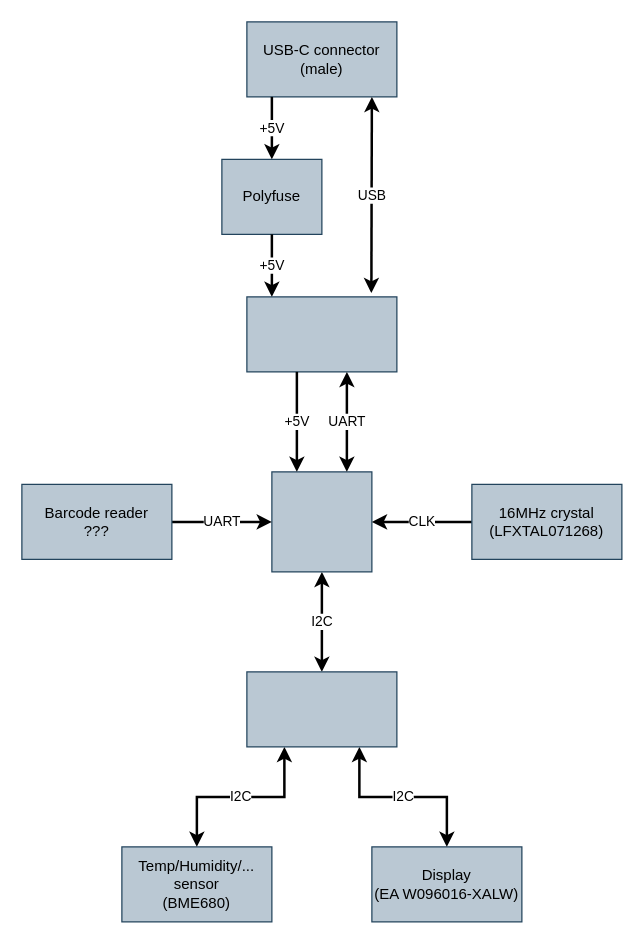
The diagram is 644 pixels wide and 944 high, and some of its shapes have lost their labels. Each missing label, with the centre of its shape:
"ATMega328p" goes at (321,521).
"I2C level shifter (5V - 3.3V) (PI6ULS5V9306)" goes at (321,709).
"USB to UART bridge (FT232RL)" goes at (321,334).
